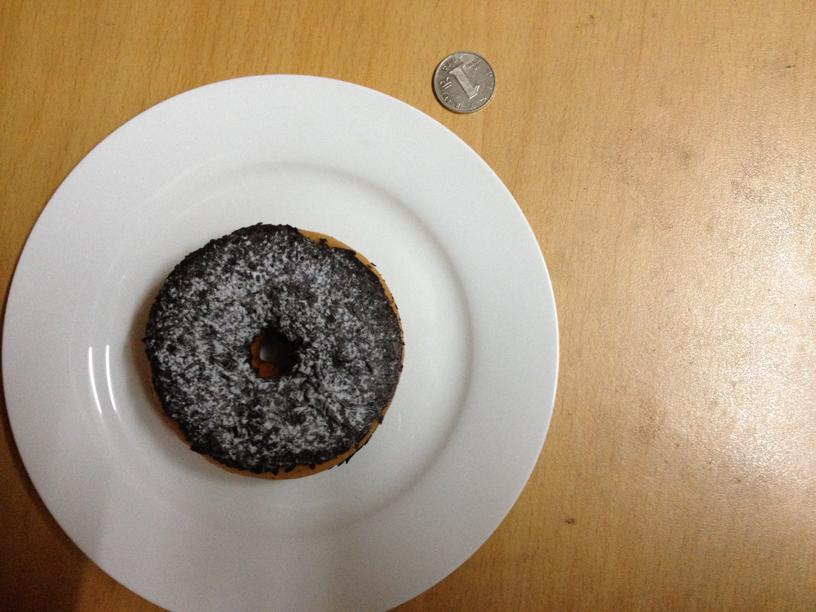coin: (430, 47, 498, 114)
doughnut: (144, 222, 400, 479)
